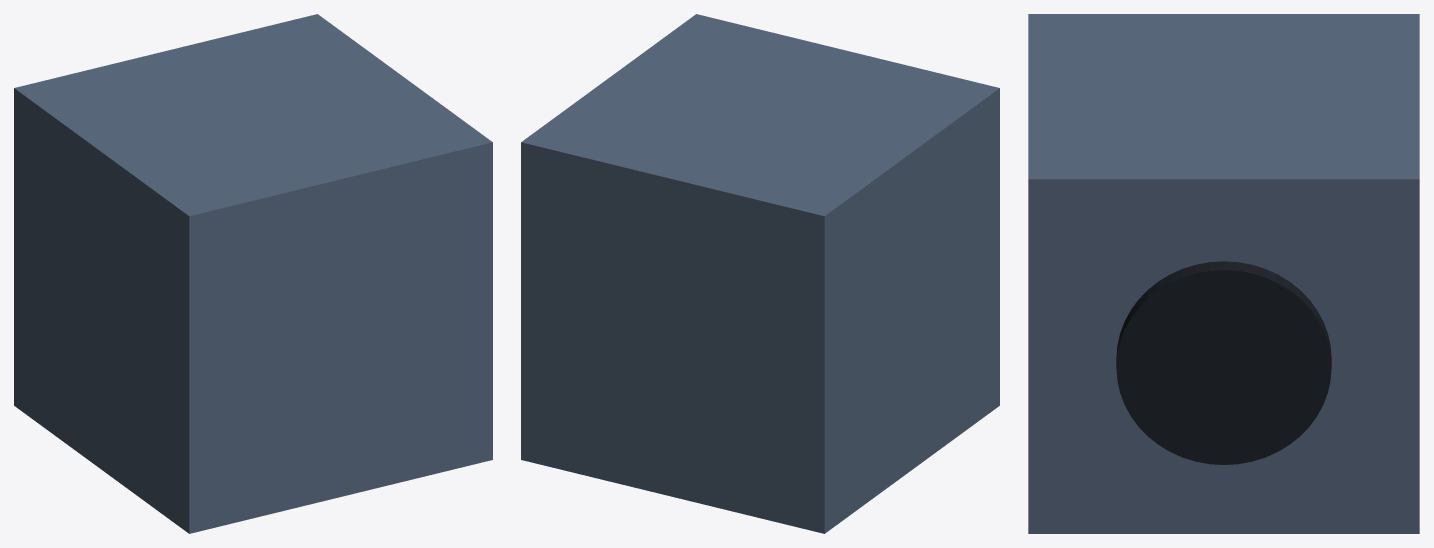
The model's file is camera_link.dae.
3 renders of one model, left to right at view 1: azimuth 30°, elevation 25°; view 2: azimuth 150°, elevation 25°; view 3: azimuth 270°, elevation 25°, orthographic. The views are drawn at different scales.
Visible parts, largest first — view 1: mesh; view 2: mesh; view 3: mesh.
Boxes of the visible parts, box(x1,y1,x2,y2) form: mesh: box(14, 14, 492, 533); mesh: box(521, 14, 999, 533); mesh: box(1028, 14, 1419, 533).
Size of the model in its own units: 0.0405 by 0.038 by 0.038.
